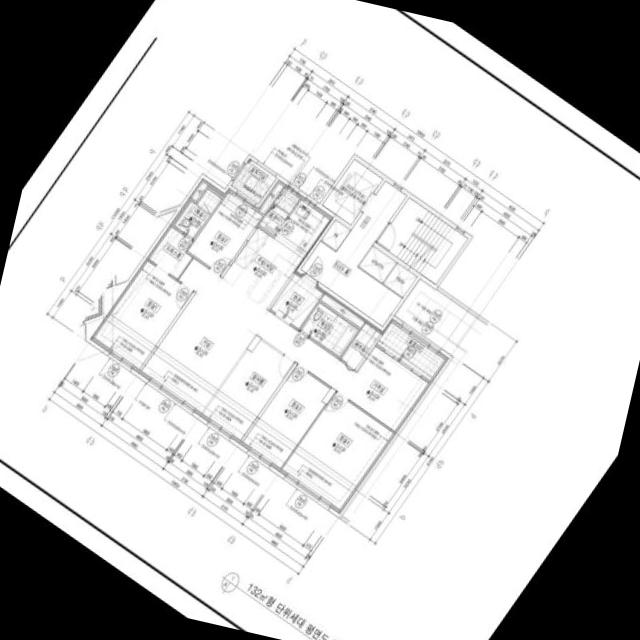background: (0, 0, 640, 640)
space_balconi: (376, 322, 444, 380), (258, 203, 287, 234)
space_bedroom: (281, 392, 392, 509), (93, 260, 192, 369), (242, 365, 329, 467), (186, 191, 262, 274)
space_dressroom: (148, 226, 191, 278)
space_elevator: (321, 158, 382, 224)
space_elevator_hall: (300, 180, 406, 326)
space_front: (269, 273, 322, 328)
space_kitchen: (221, 199, 329, 309)
space_living_room: (140, 258, 355, 412)
space_other: (202, 339, 293, 439), (341, 345, 427, 430), (230, 158, 275, 203), (340, 322, 380, 368), (320, 293, 363, 327), (357, 245, 396, 282), (382, 262, 416, 297), (320, 219, 349, 250), (258, 183, 282, 213), (273, 187, 299, 213), (191, 181, 207, 201)
space_staircase: (376, 197, 467, 284)
space_toilet: (299, 301, 358, 357), (173, 188, 220, 238)
